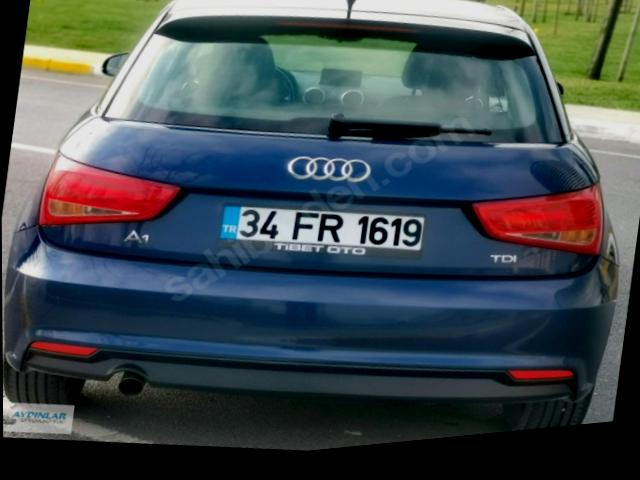plaka: (221, 206, 425, 251)
